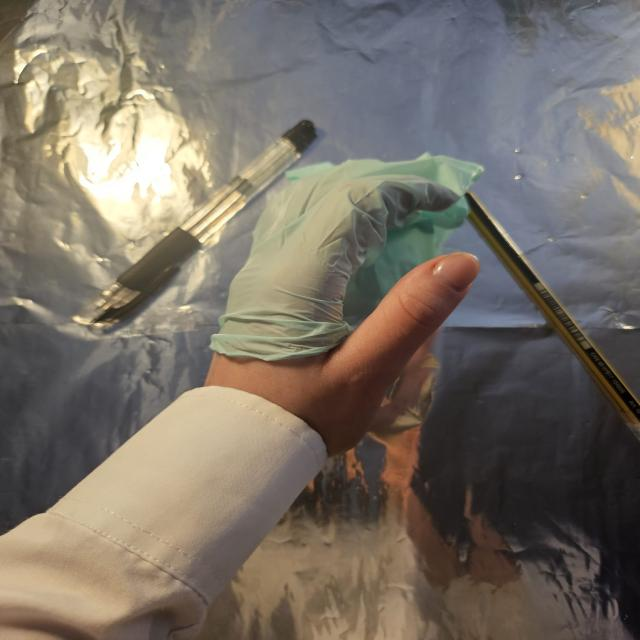glove_partial: (207, 152, 485, 457)
